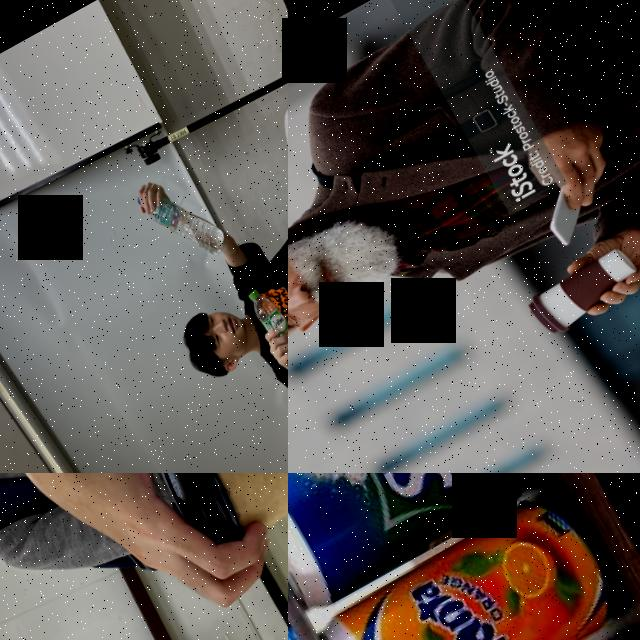bottle: (134, 167, 232, 276), (245, 278, 288, 384)
can: (307, 473, 640, 640), (288, 473, 563, 623)
cup: (143, 473, 288, 561), (521, 240, 640, 342)
